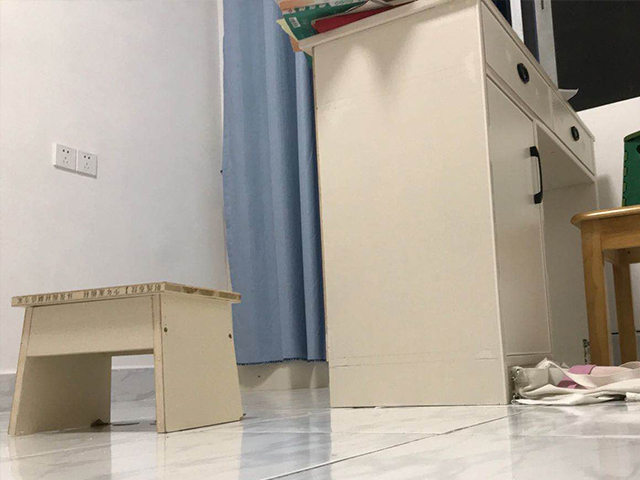cabinet: (295, 1, 555, 405)
curtain: (219, 1, 329, 368)
stool: (7, 280, 248, 436)
